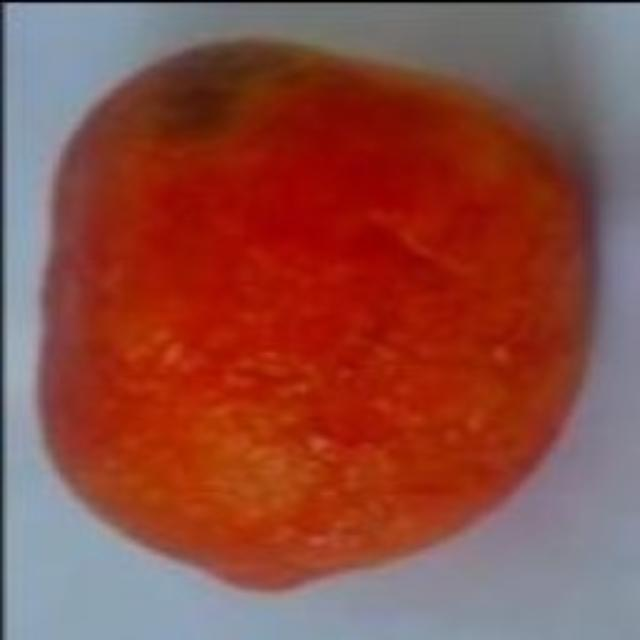defect: (38, 31, 614, 587)
